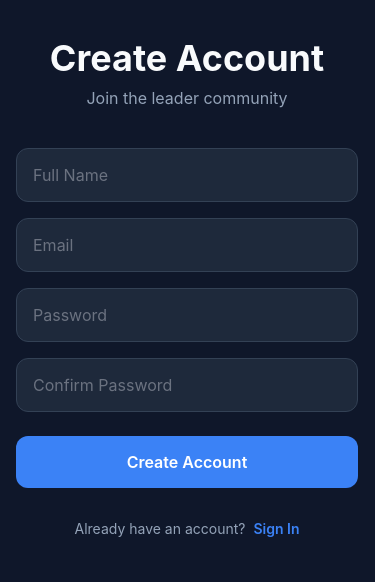
Test: SignUpScreen › should show error when passwords do not match
Type "John Doe" into the field with placeholder "Full Name".
click(187, 174); type("John Doe")  # box [16,148,358,202]
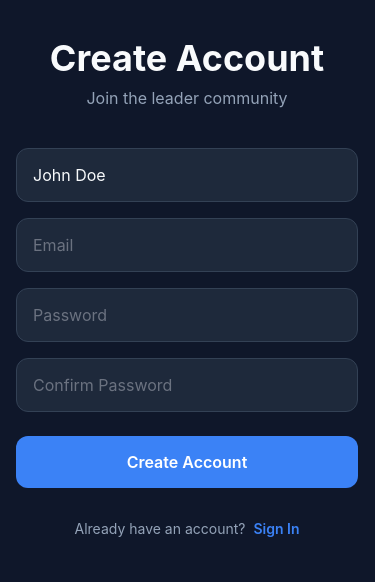
Type "john@example.com" into the field with placeholder "Email".
click(187, 244); type("john@example.com")  # box [16,218,358,272]
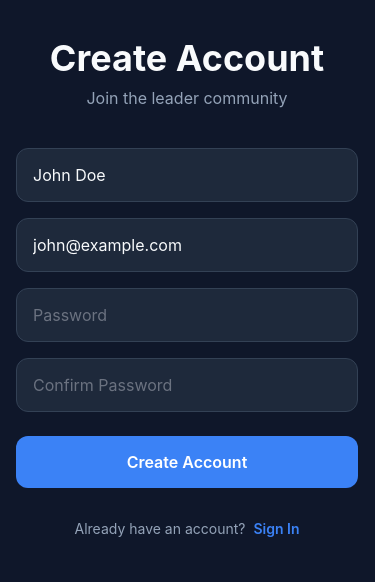
Type "password123" into the password field with placeholder "Password".
click(187, 314); type("password123")  # box [16,288,358,342]
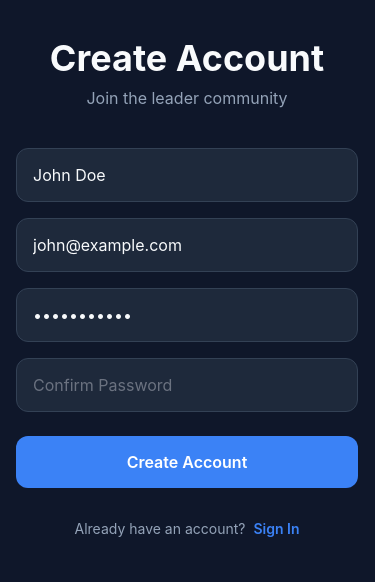
Type "password456" into the password field with placeholder "Confirm Password".
click(187, 384); type("password456")  # box [16,358,358,412]
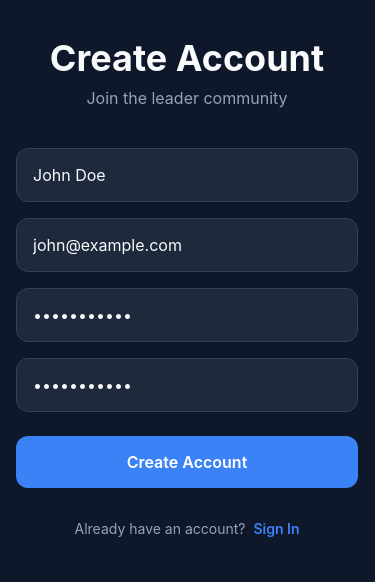
Click the 2nd text "Create Account".
click(187, 462)  # box [127,452,247,472]
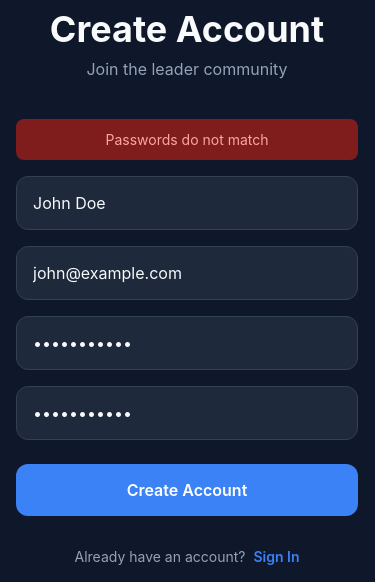
Now the text "Passwords do not match" is shown, box [106,131,269,148]
